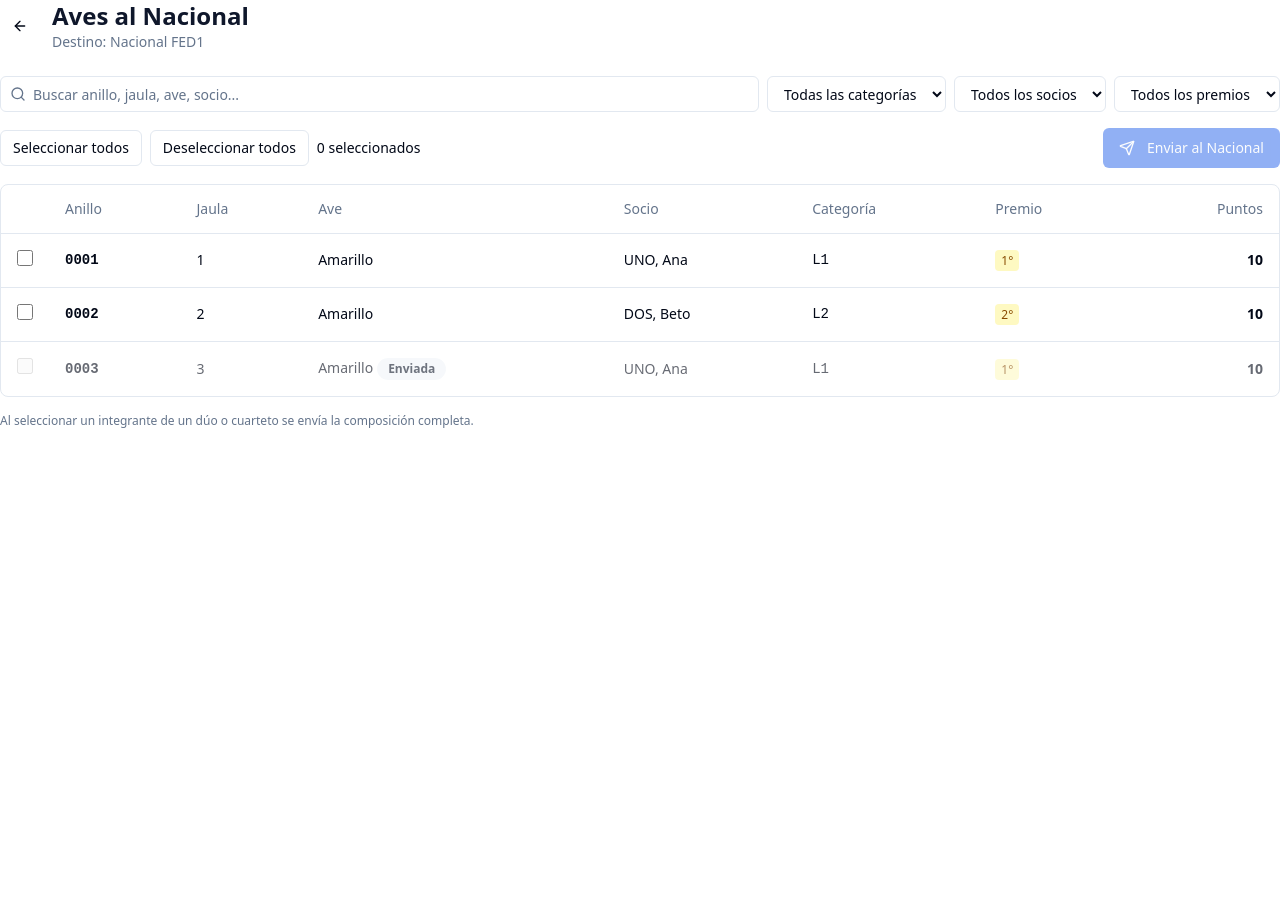
Test: enviar al Nacional muestra el resultado con omitidas detalladas
The width and height of the screenshot is (1280, 900).
Click the button "Seleccionar todos": point(71, 148) [0,130,142,166]
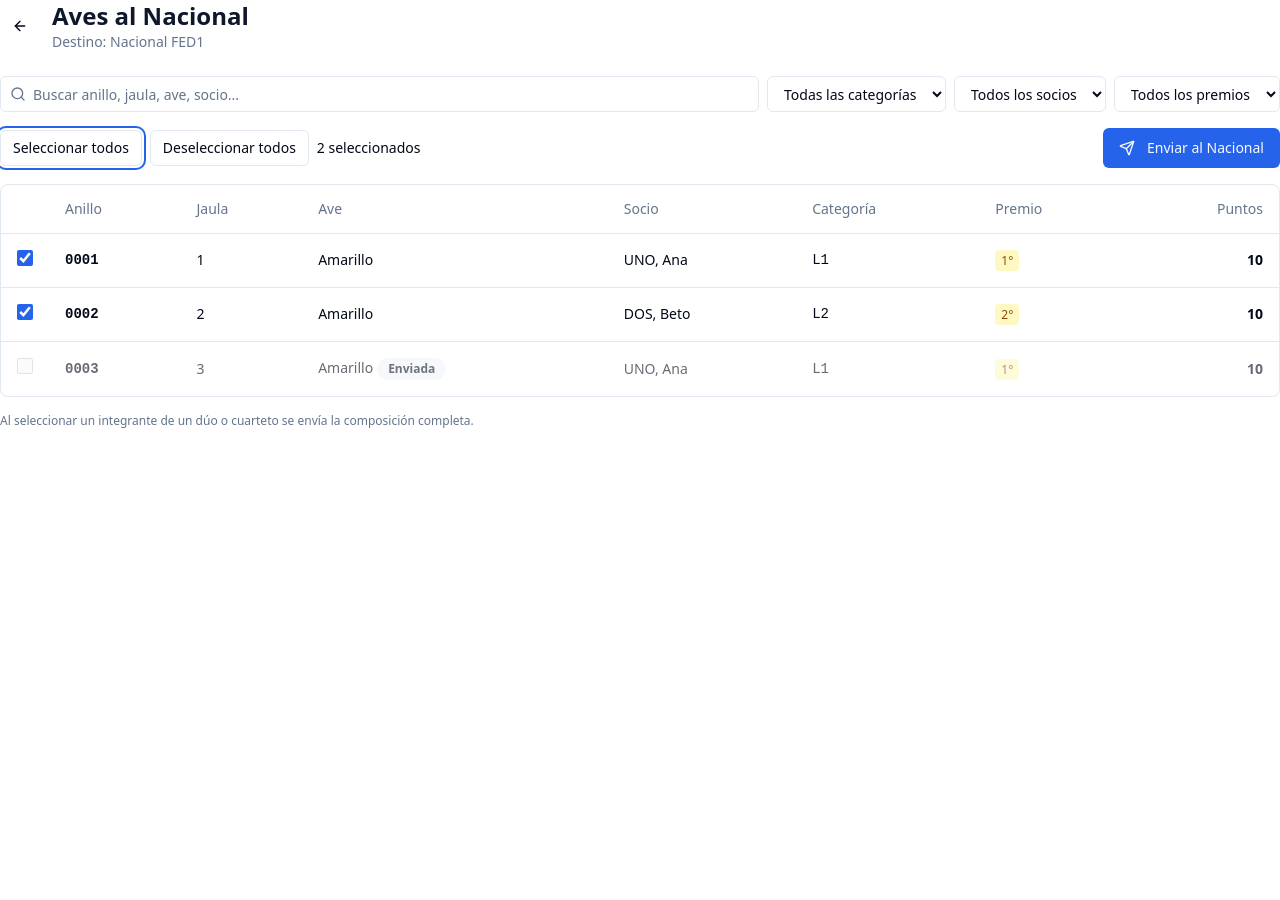
Click the button "Enviar al Nacional": point(1192, 148) [1103,128,1279,168]
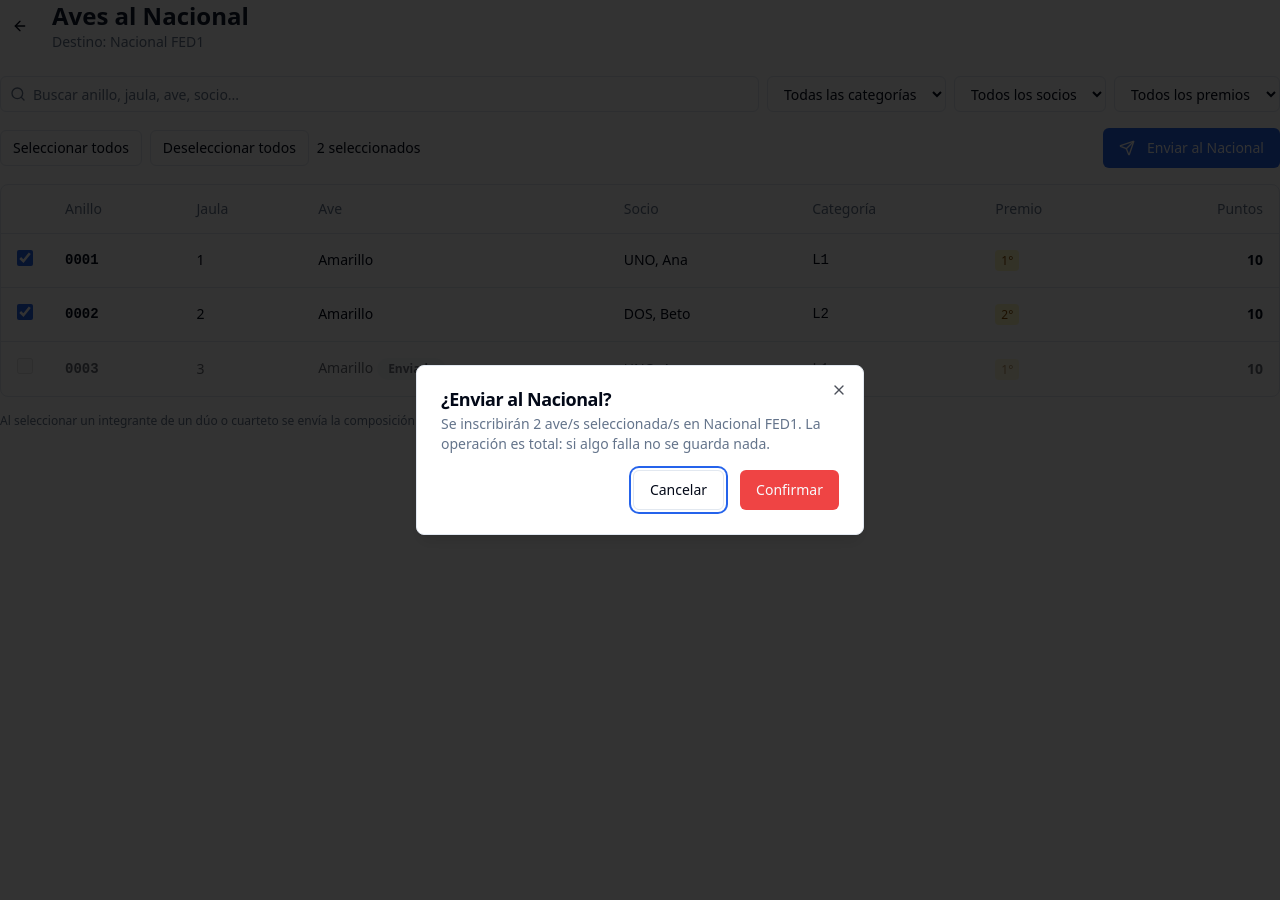
Click the button "Confirmar": point(790, 490) [740,470,839,510]
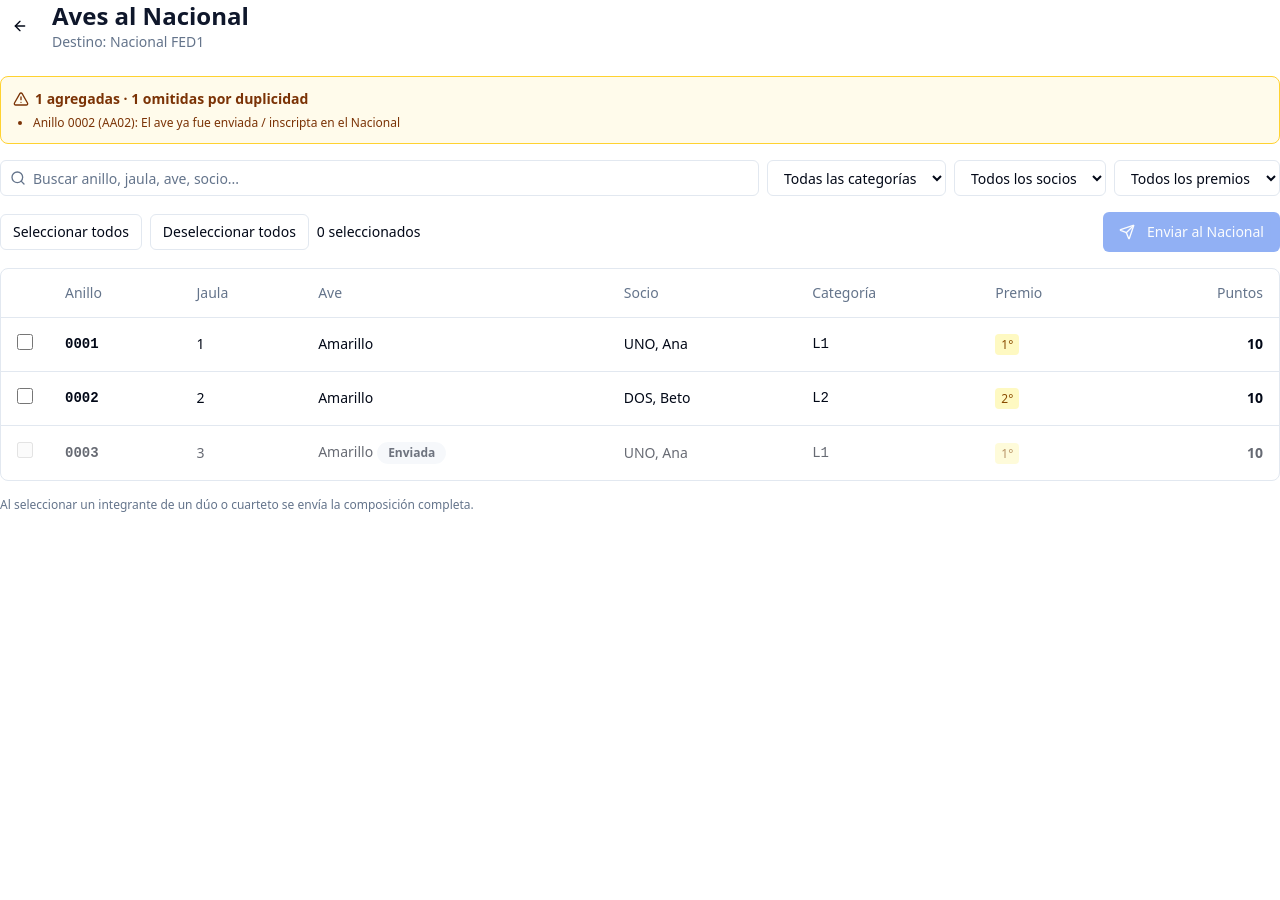
expect the message shows "1 agregadas · 1 omitidas por duplicidad": met, box [35,89,308,108]
expect the message shows "Anillo 0002": met, box [0,76,1279,144]
